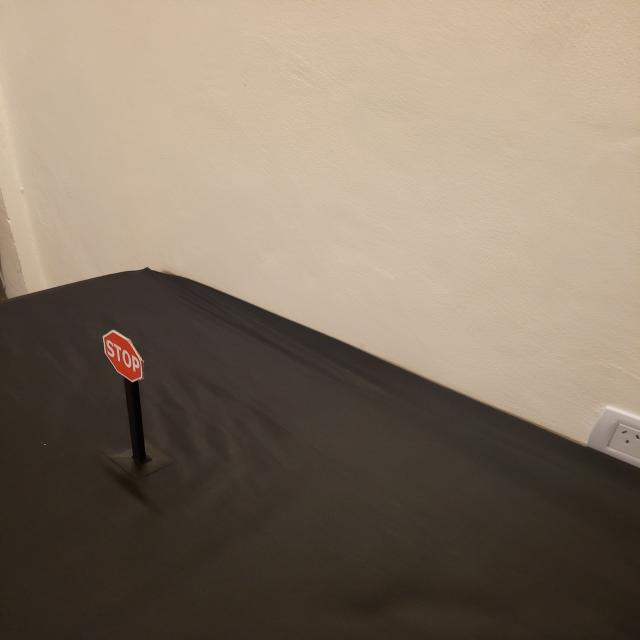stop: (101, 329, 145, 383)
